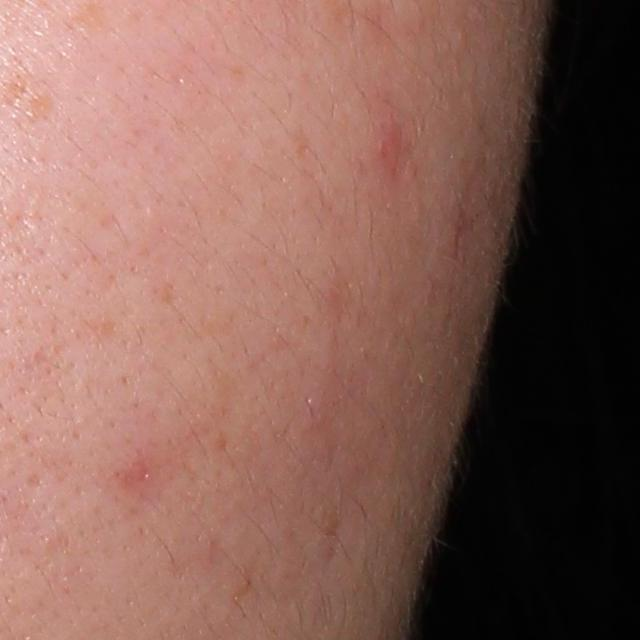papule: (372, 115, 412, 176)
